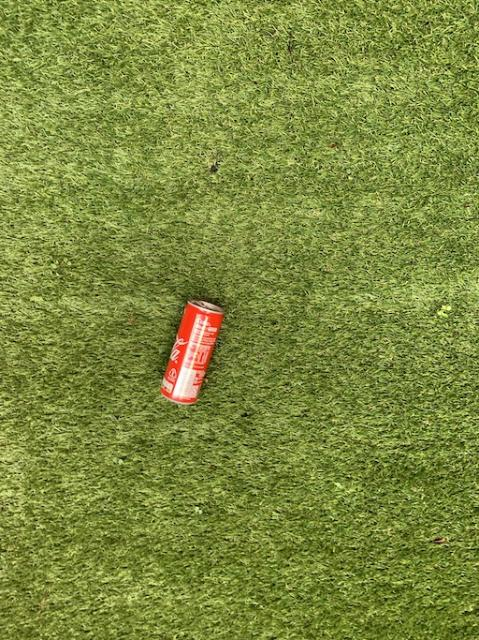metal: (160, 299, 222, 402)
